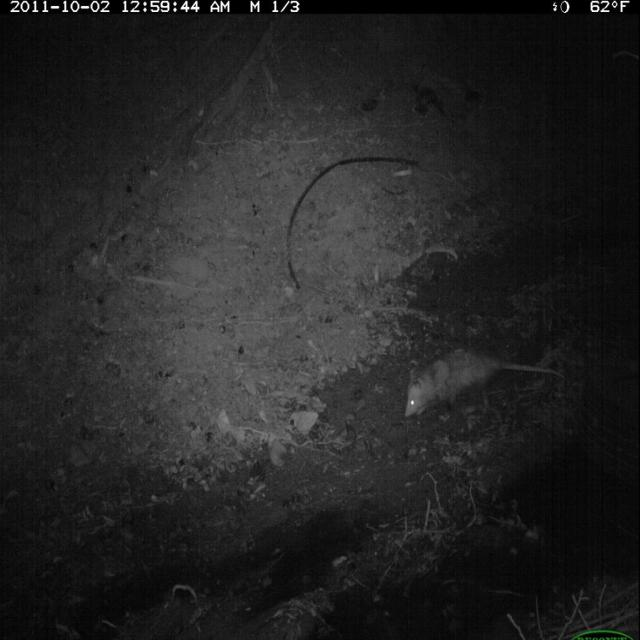opossum: (399, 336, 561, 428)
